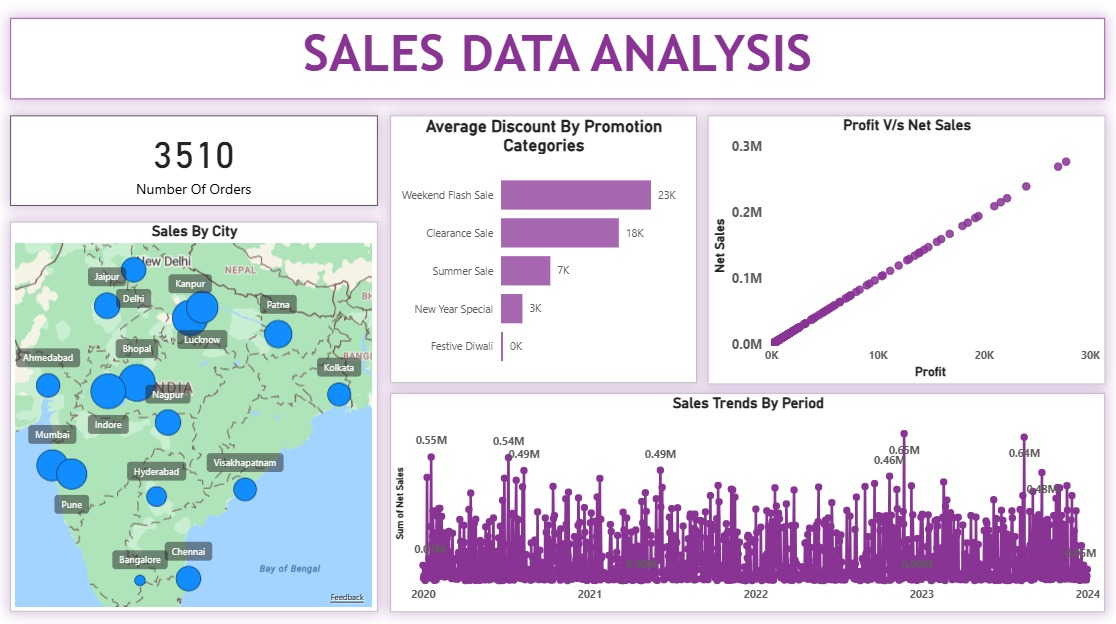

What the dashboard file says about the page in this screenshot:
{"tool":"powerbi","page":{"name":"Overview","canvas":[1280,720],"ordinal":0},"visuals":[{"type":"lineChart","title":"Sales Trends By Period","fields":{"Category":["Fact Table.Date (dd/mm/yyyy).Variation.Date Hierarchy.Year"],"Y":["Sum(Fact Table.Net Sales   )"]},"box":[447.1,451.4,817.1,250],"z":0},{"type":"scatterChart","title":"Profit V/s Net Sales   ","fields":{"Y":["Fact Table.Net Sales   "],"X":["Fact Table.Profit"]},"box":[810,134.3,454.3,307.1],"z":1000},{"type":"barChart","title":"Average Discount By Promotion Categories","fields":{"Category":["Dim Promotion.Promotion Name"],"Y":["Avg(Fact Table.Discount)"]},"box":[447.1,134.3,350,305.7],"z":2000},{"type":"azureMap","title":"Sales By City","fields":{"Category":["Dim Customers.City"],"Size":["Sum(Fact Table.Net Sales   )"]},"box":[12.9,255.7,420,445.7],"z":3000},{"type":"card","fields":{"Values":["Count(Fact Table.Order ID)"]},"box":[12.9,134.3,420,102.9],"z":4000},{"type":"textbox","box":[12.9,22.9,1251.4,92.9],"z":5000}]}

Visuals, with their boxes in screenshot pixels (x1, y1, x2, y2), scaled from the page's 1280x720 canvas onto the 1116x624 screenshot:
"Sales Trends By Period" lineChart: pyautogui.locateOnScreen(390, 391, 1102, 608)
"Profit V/s Net Sales   " scatterChart: pyautogui.locateOnScreen(706, 116, 1102, 383)
"Average Discount By Promotion Categories" barChart: pyautogui.locateOnScreen(390, 116, 695, 381)
"Sales By City" azureMap: pyautogui.locateOnScreen(11, 222, 377, 608)
card - Count(Fact Table.Order ID): pyautogui.locateOnScreen(11, 116, 377, 206)
textbox: pyautogui.locateOnScreen(11, 20, 1102, 100)
